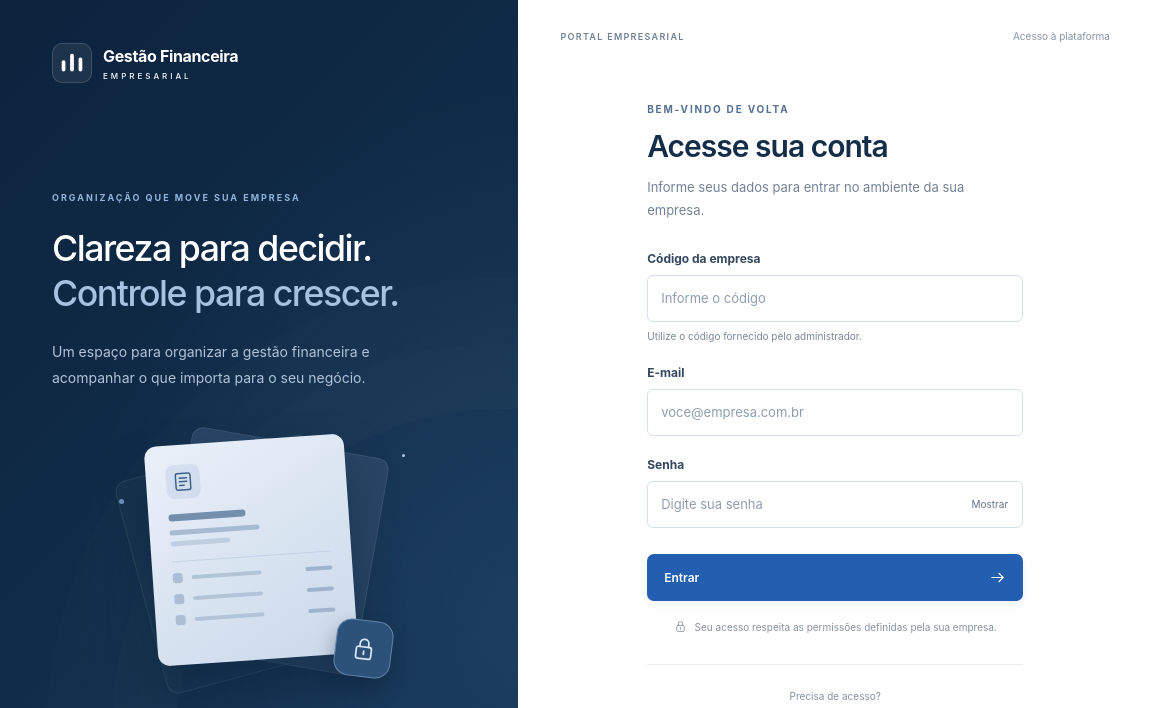
Test: Acesso empresarial › faz login com o contrato real e confirma identidade via GET /usuarios/me
The width and height of the screenshot is (1152, 708).
Type "7" into the field labelled "Código da empresa".
click(835, 298); type("7")  # box [647, 275, 1023, 322]
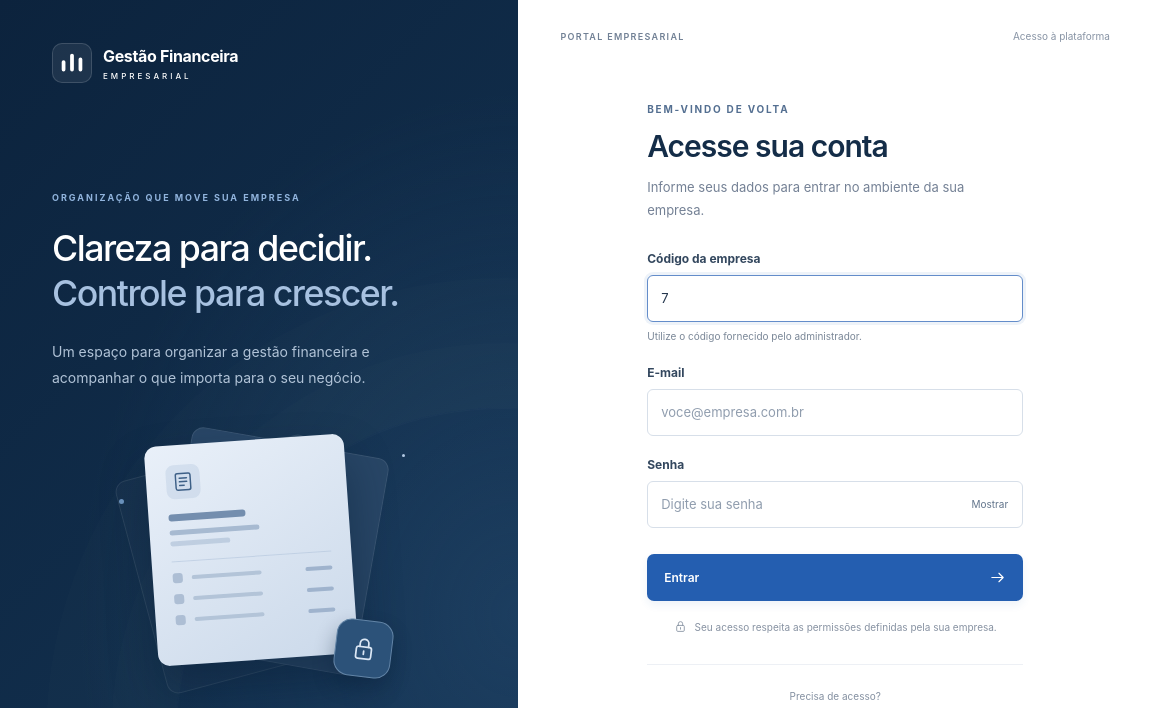
Type "ana@teste.invalid" into the field labelled "E-mail".
click(835, 412); type("ana@teste.invalid")  # box [647, 389, 1023, 436]
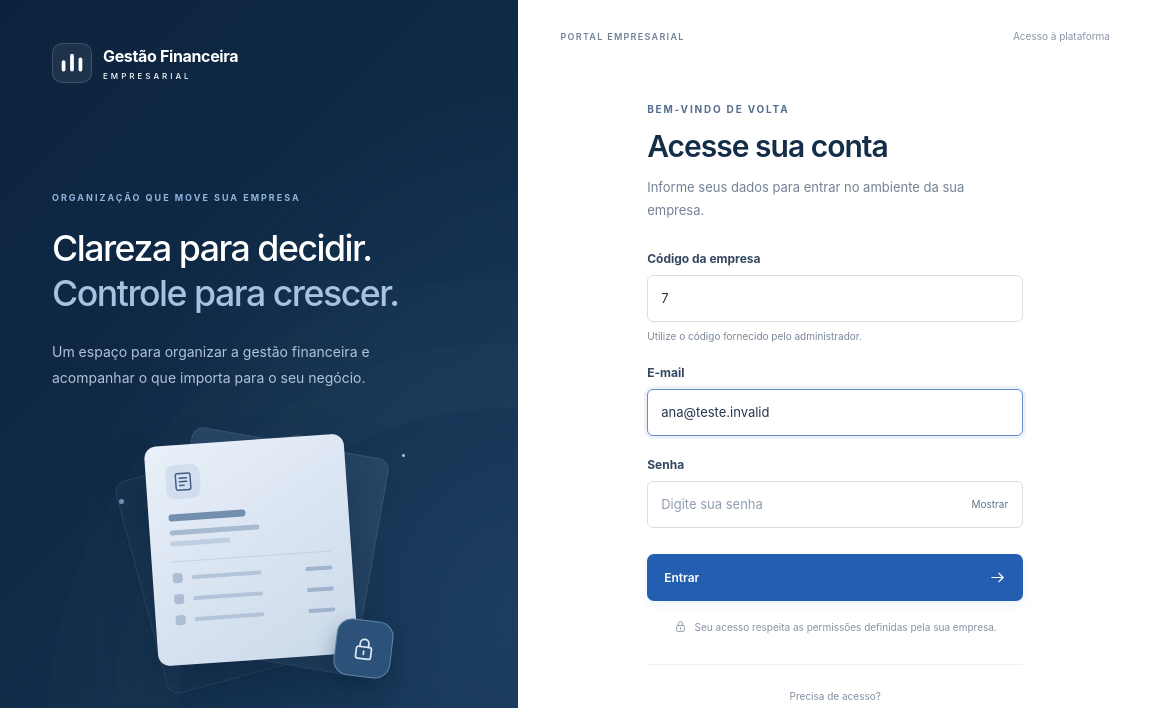
Type "senha-ficticia" into the password field labelled "Senha".
click(835, 504); type("senha-ficticia")  # box [647, 481, 1023, 528]
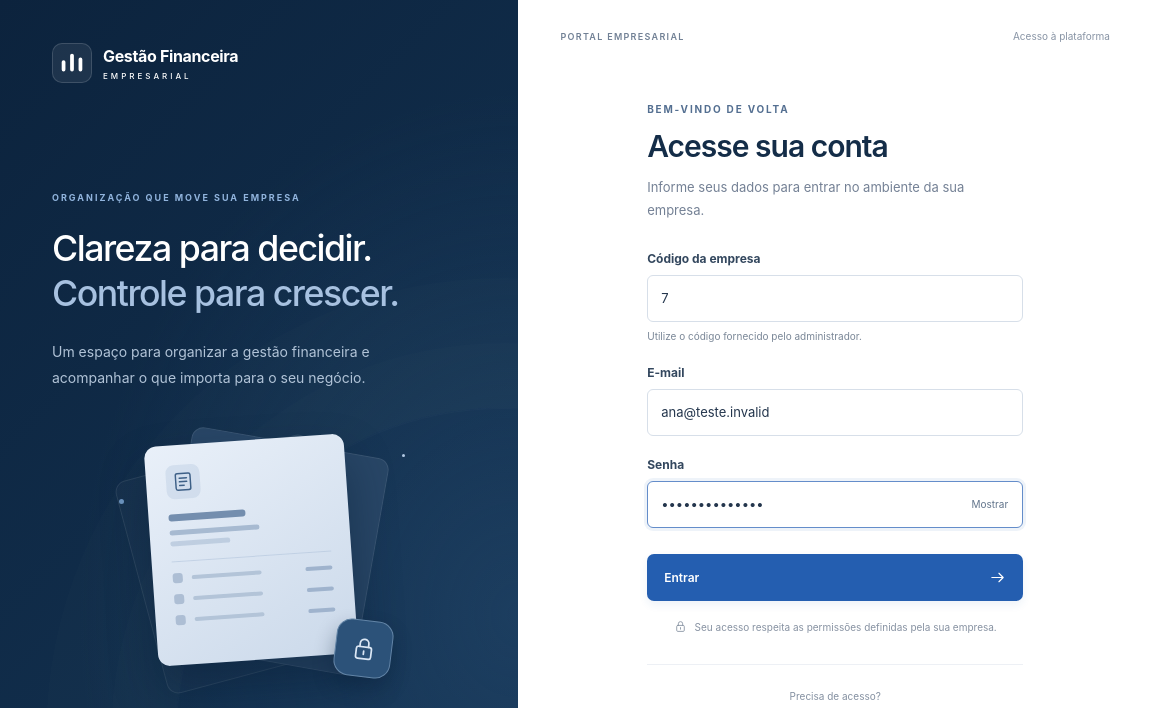
Click the button "Entrar".
click(682, 577)  # box [647, 554, 1023, 601]
(page scrolled)
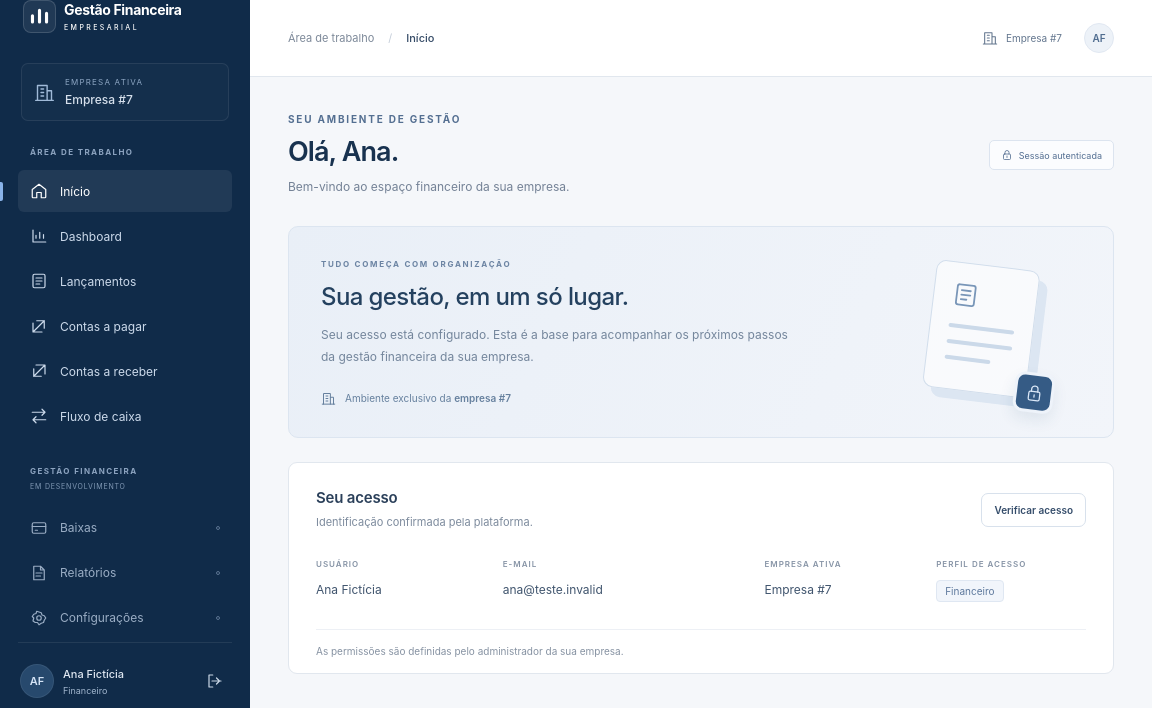
Expected: the heading "Olá, Ana." is shown, [288, 135, 398, 168]
Expected: the text "ana@teste.invalid" is shown, [503, 582, 603, 597]
Expected: the text "Financeiro" below "EM DESENVOLVIMENTO" is shown, [63, 685, 107, 696]
